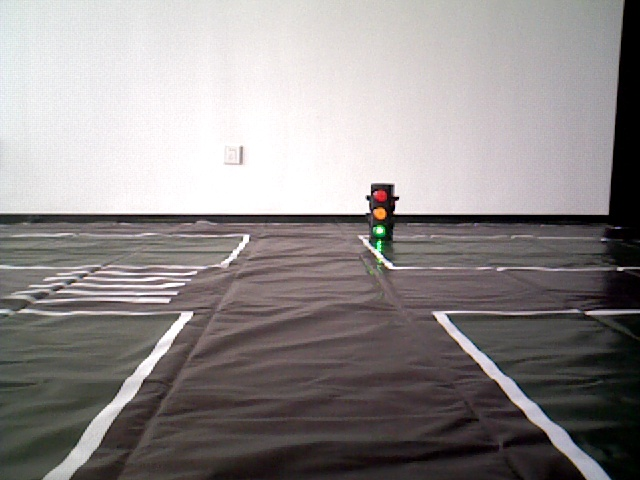green: (373, 183, 388, 241)
